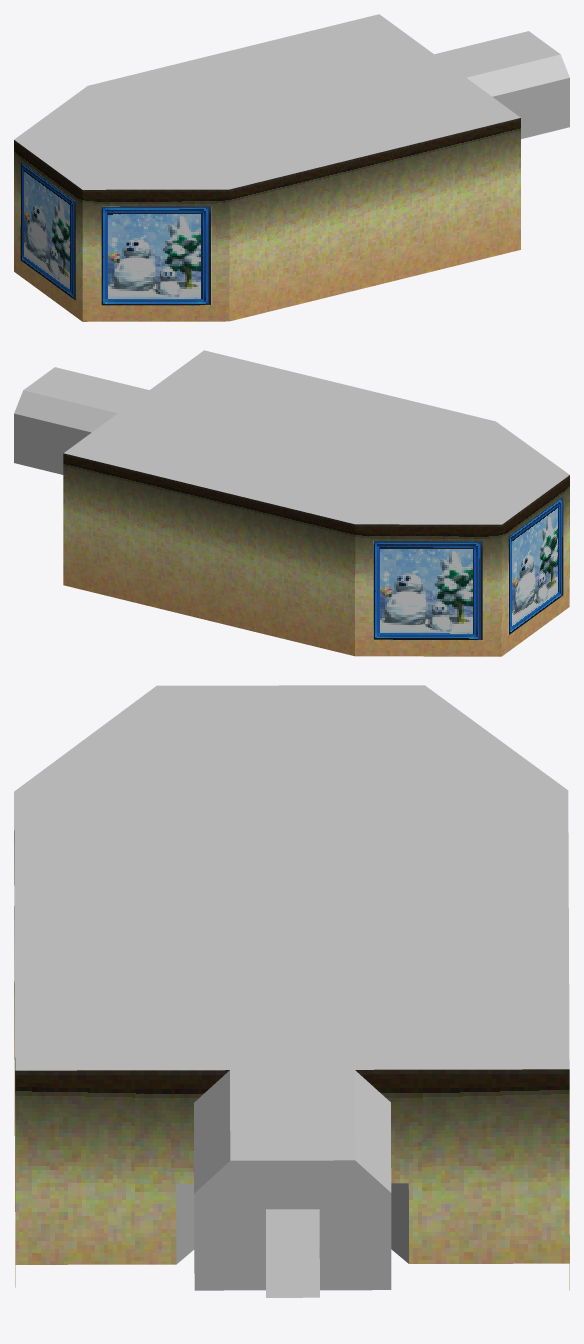
The model's file is cool cool mountain room.fbx.
The picture shows the model from 3 angles, top to bottom: view 1: azimuth 30°, elevation 25°; view 2: azimuth 150°, elevation 25°; view 3: azimuth 270°, elevation 25°; orthographic projection. The views are drawn at different scales.
Visible parts, largest first — view 1: cool_cool_mountain_room; view 2: cool_cool_mountain_room; view 3: cool_cool_mountain_room.
Boxes of the visible parts, x1=… form: cool_cool_mountain_room: x1=14, y1=14, x2=569, y2=321; cool_cool_mountain_room: x1=14, y1=350, x2=569, y2=656; cool_cool_mountain_room: x1=14, y1=685, x2=569, y2=1297.
Size of the model in its own units: 16.39 by 4.11 by 7.96.
